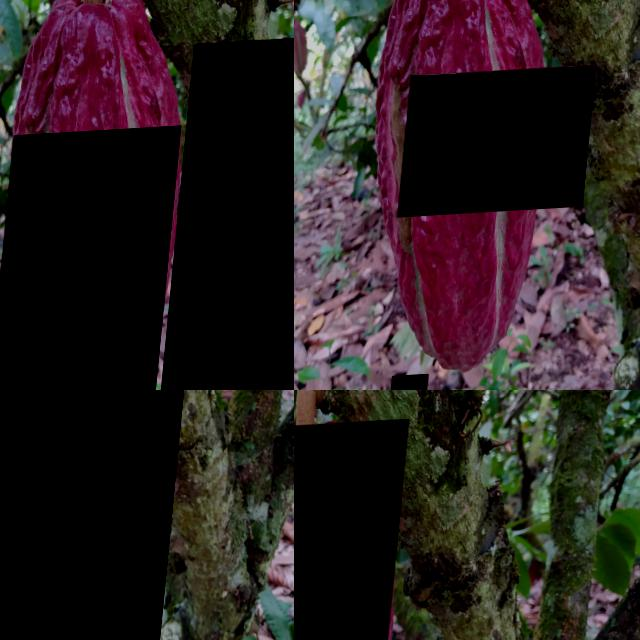Fitoftora: (0, 130, 187, 390), (166, 41, 294, 390)
Monilia: (0, 390, 206, 640), (406, 70, 602, 220)
Sana: (294, 423, 411, 640), (439, 332, 492, 376), (402, 377, 439, 390)
